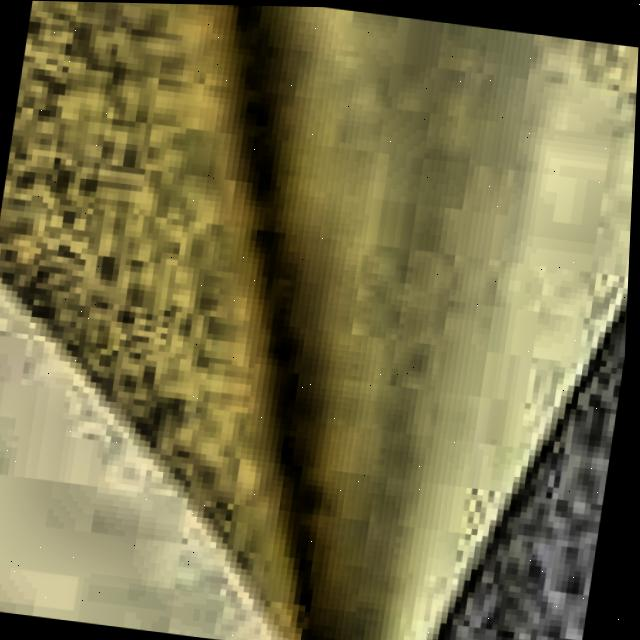paper: (0, 1, 639, 640)
